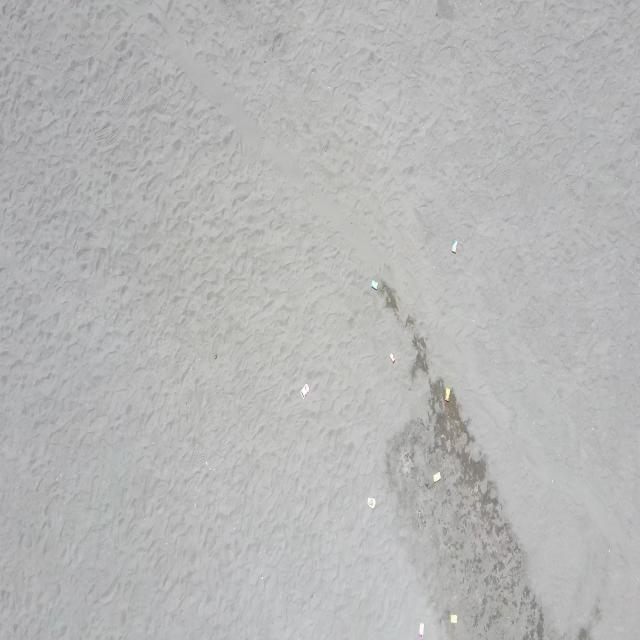Garbage: (300, 384, 308, 397), (417, 623, 423, 639), (367, 496, 375, 507), (432, 472, 440, 482), (388, 352, 395, 363), (449, 612, 456, 623), (451, 240, 456, 252), (444, 387, 448, 400), (371, 280, 376, 289)
